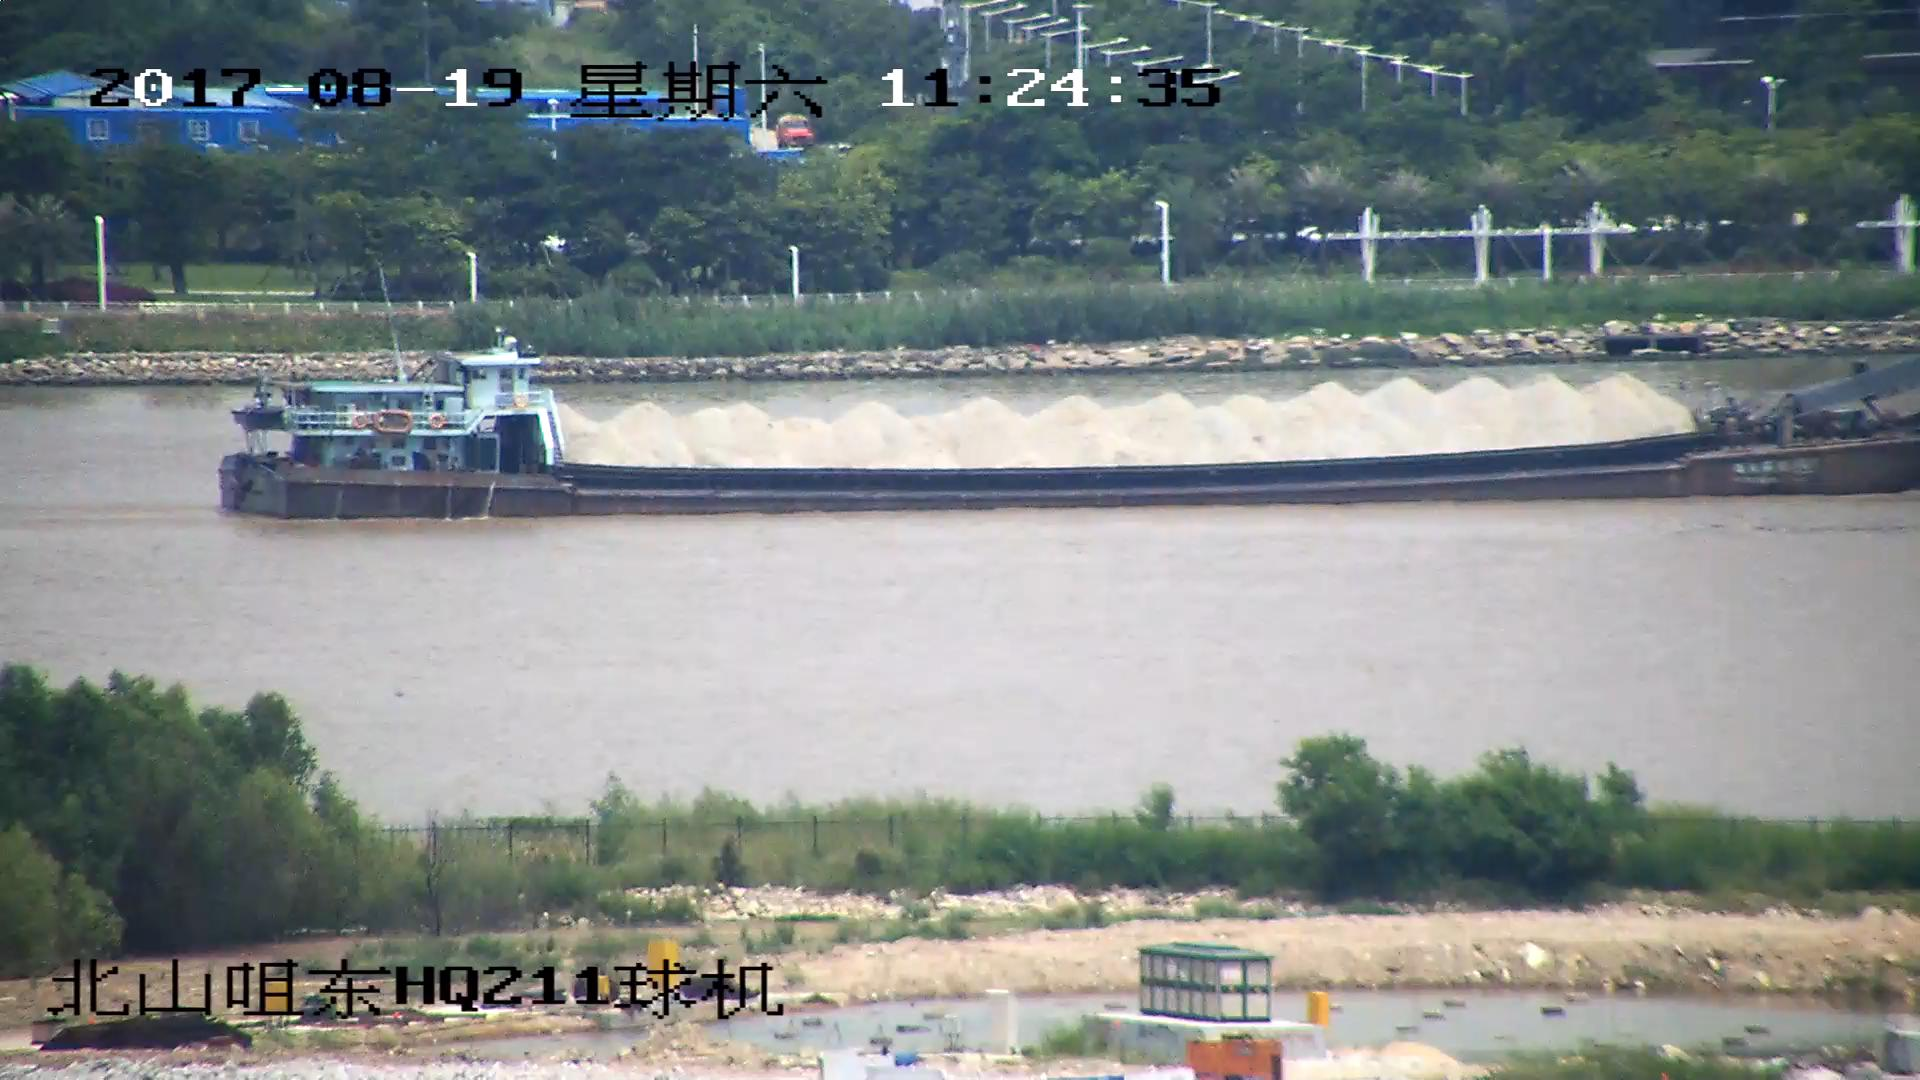ore carrier: (217, 340, 1920, 519)
